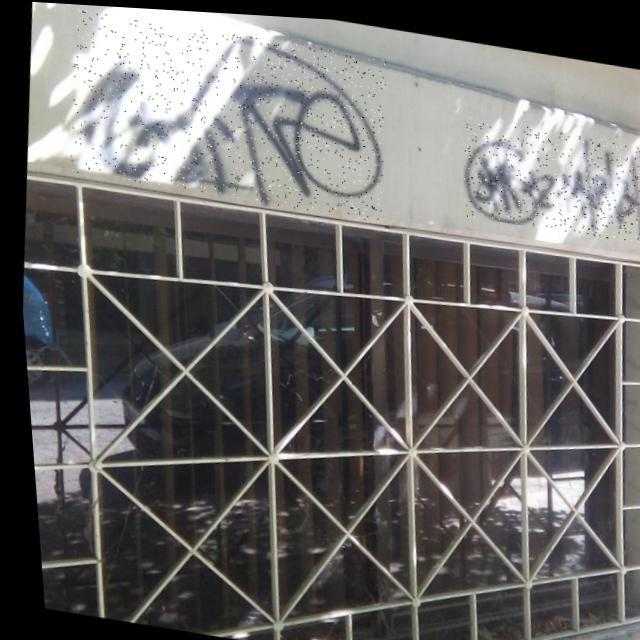-: (57, 6, 395, 218), (453, 110, 640, 239)
